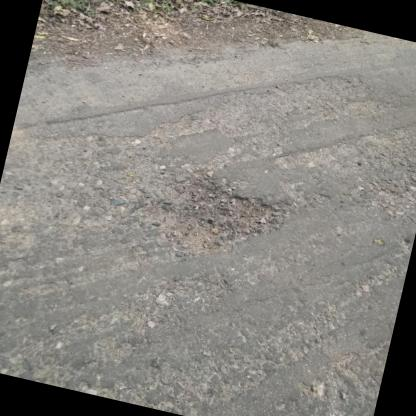pothole: (126, 164, 291, 274)
